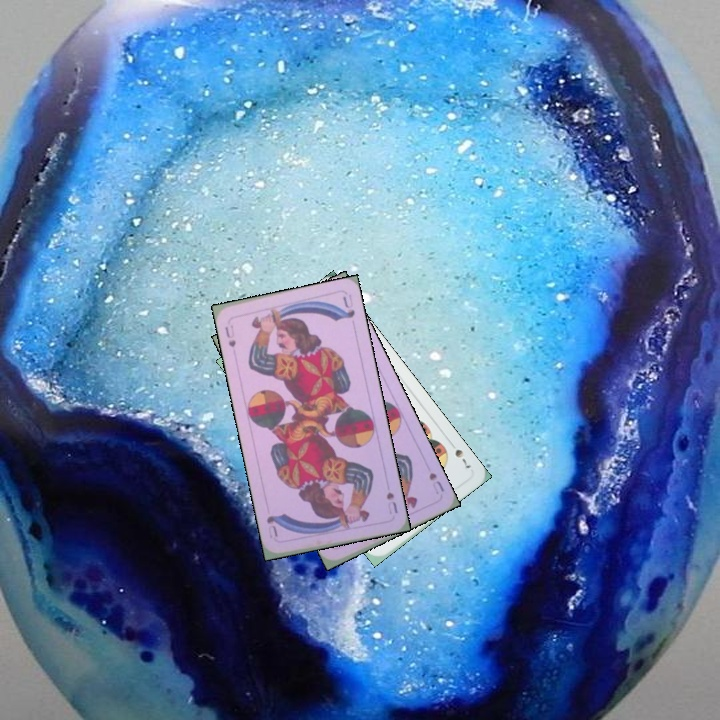S7: (451, 445, 474, 471)
SU: (423, 467, 447, 497), (382, 488, 400, 517), (221, 321, 238, 349)
